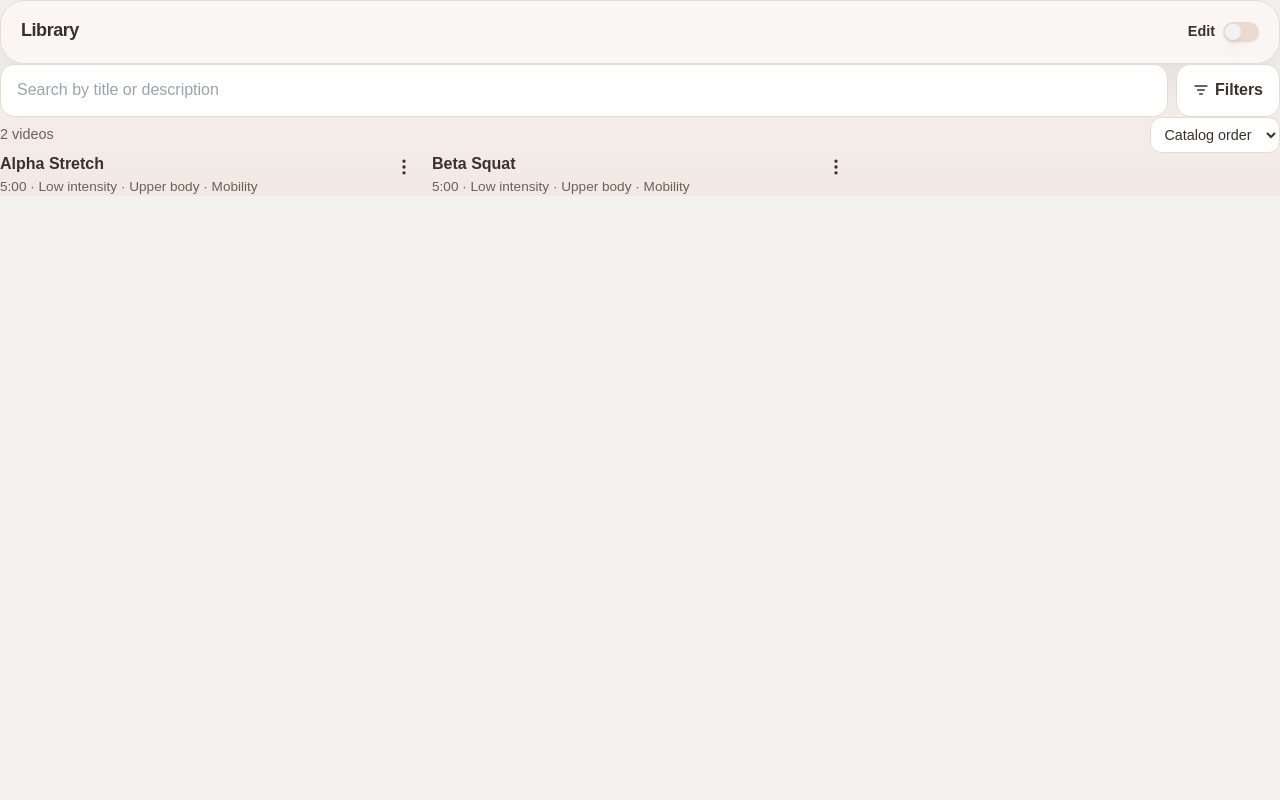
Test: edits an exercise from the library in edit mode
This screenshot has width=1280, height=800.
Expected: the heading "Alpha Stretch" is shown, [0,155,104,172]
Click the switch named "edit" at (1241, 32), box [1223,22,1259,42]
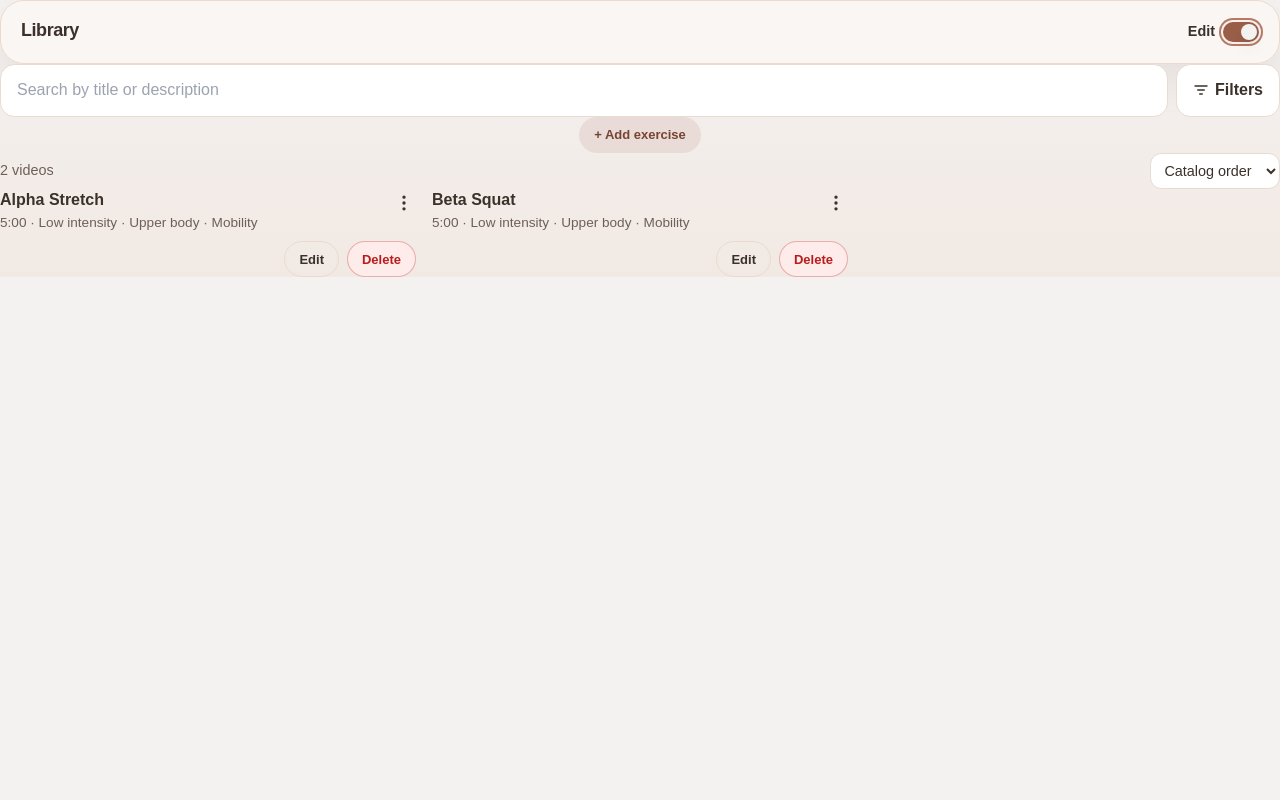
Click the button with aria-label "edit alpha stretch" at (312, 259), box [284,241,339,277]
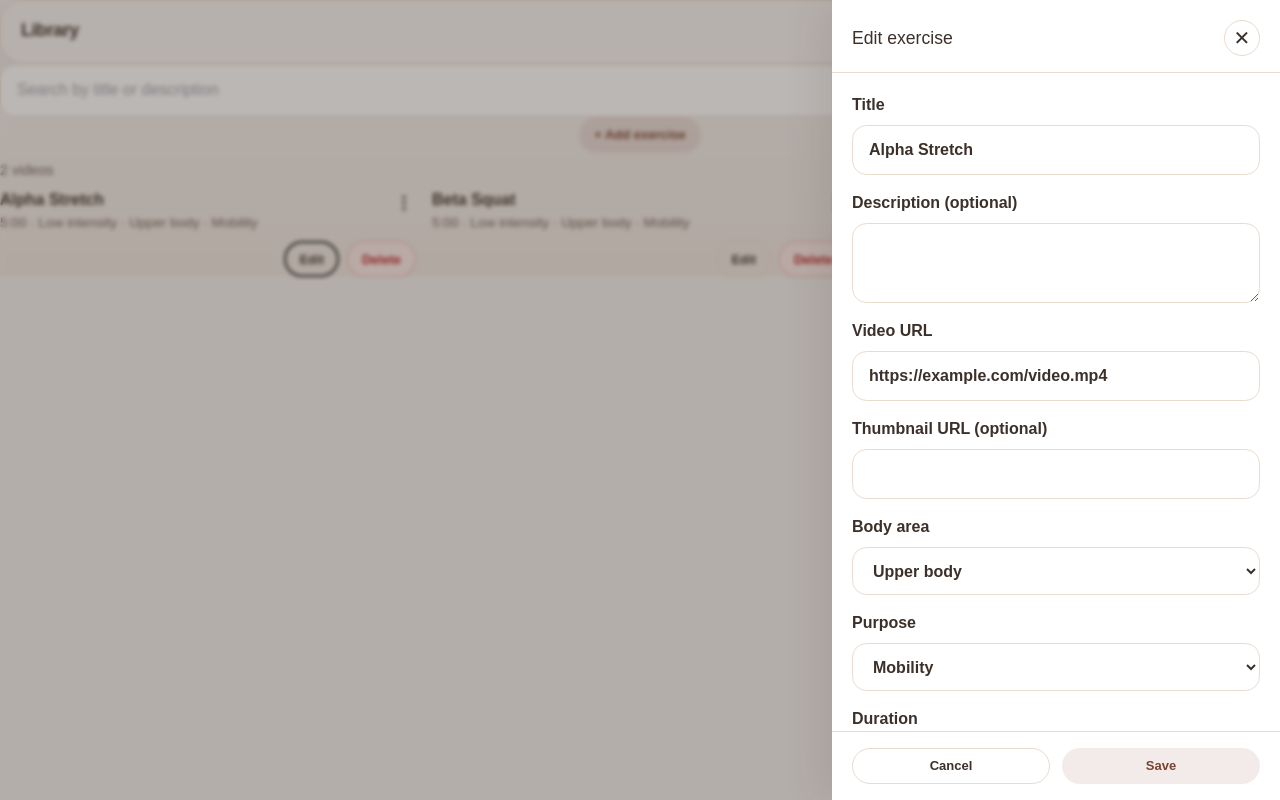
Replace the text in the field labelled "Title" with "Alpha Stretch Long" at (1056, 150), box [852,125,1260,175]
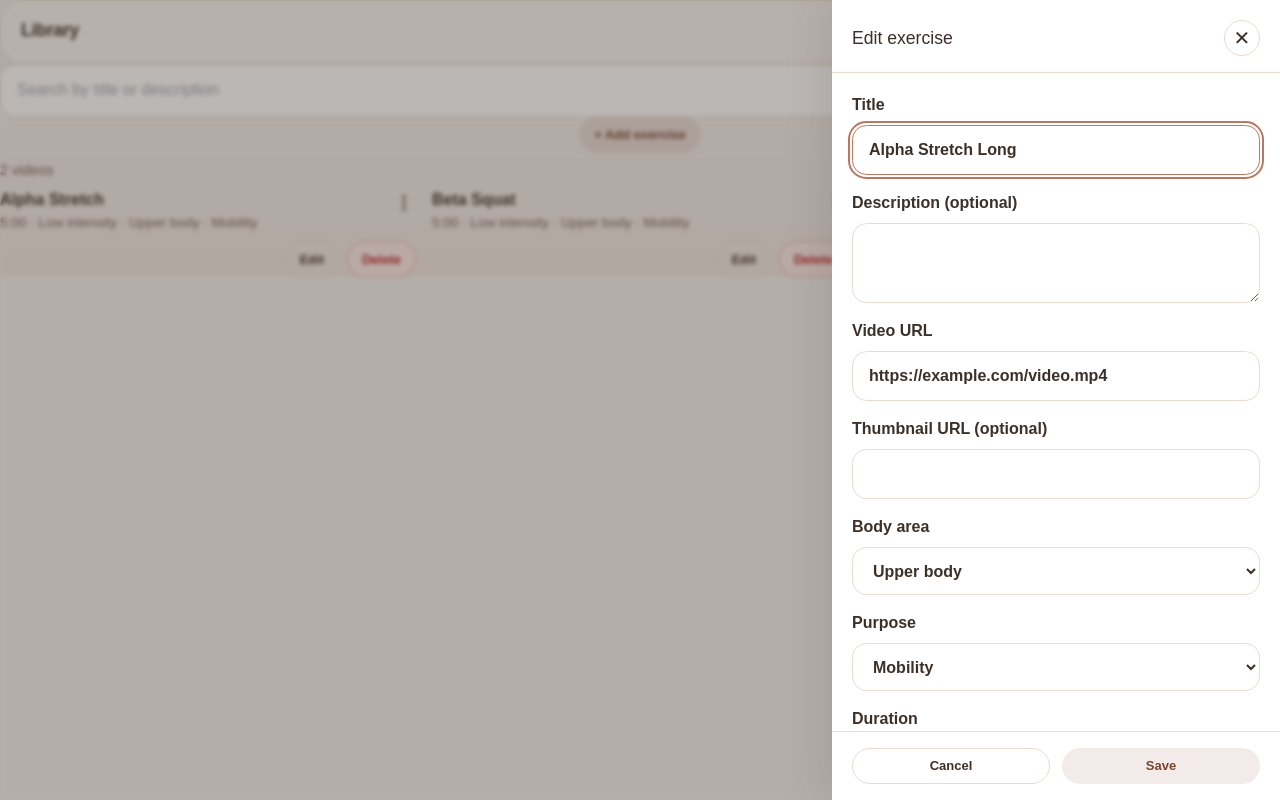
Click the button "Save" at (1161, 766), box [1062,748,1260,784]
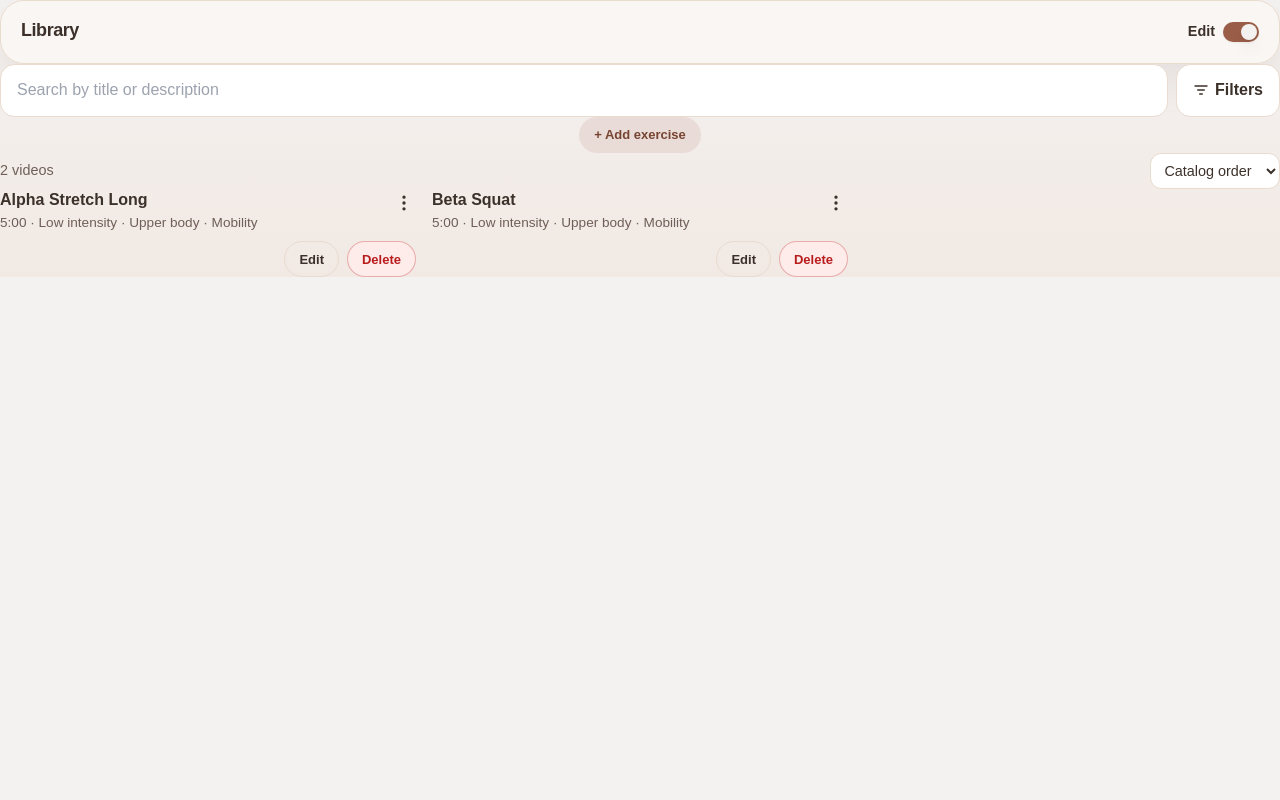
Expected: the heading "Alpha Stretch Long" is shown, [0,191,148,208]
